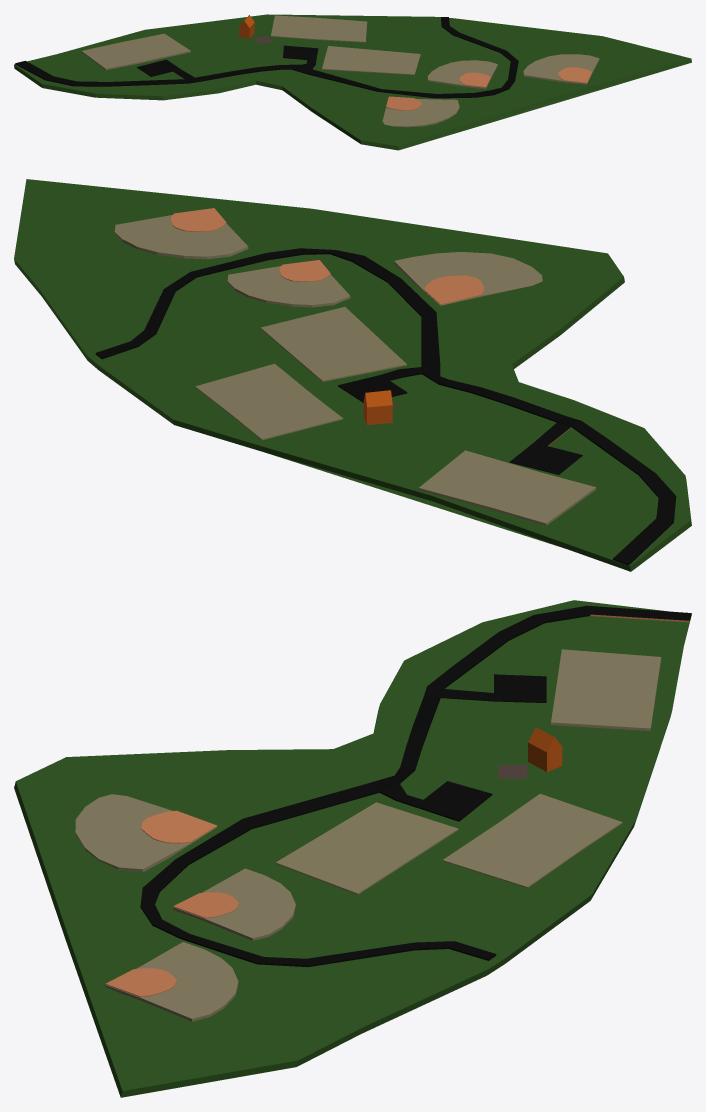
File: intbroadneckpark.glb
3 renders of one model, top to bottom at view 1: azimuth 30°, elevation 25°; view 2: azimuth 150°, elevation 25°; view 3: azimuth 270°, elevation 25°, orthographic. The views are drawn at different scales.
Visible parts, largest first — view 1: BroadneckPark.001, BroadneckPark.003, BroadneckPark.004, BroadneckPark.002; view 2: BroadneckPark.001, BroadneckPark.003, BroadneckPark.004, BroadneckPark.002; view 3: BroadneckPark.001, BroadneckPark.003, BroadneckPark.004, BroadneckPark.002.
Boxes of the visible parts, box(x1,y1,x2,y2) form: BroadneckPark.001: box(14, 14, 691, 150); BroadneckPark.003: box(382, 96, 459, 127); BroadneckPark.004: box(523, 54, 599, 84); BroadneckPark.002: box(427, 60, 497, 89); BroadneckPark.001: box(14, 179, 691, 571); BroadneckPark.003: box(394, 252, 542, 305); BroadneckPark.004: box(114, 208, 248, 259); BroadneckPark.002: box(227, 260, 350, 307); BroadneckPark.001: box(14, 600, 691, 1097); BroadneckPark.003: box(75, 794, 217, 872); BroadneckPark.004: box(105, 942, 238, 1021); BroadneckPark.002: box(173, 868, 295, 940).
Size of the model in its own units: 1.08 by 0.0847 by 0.6593.
